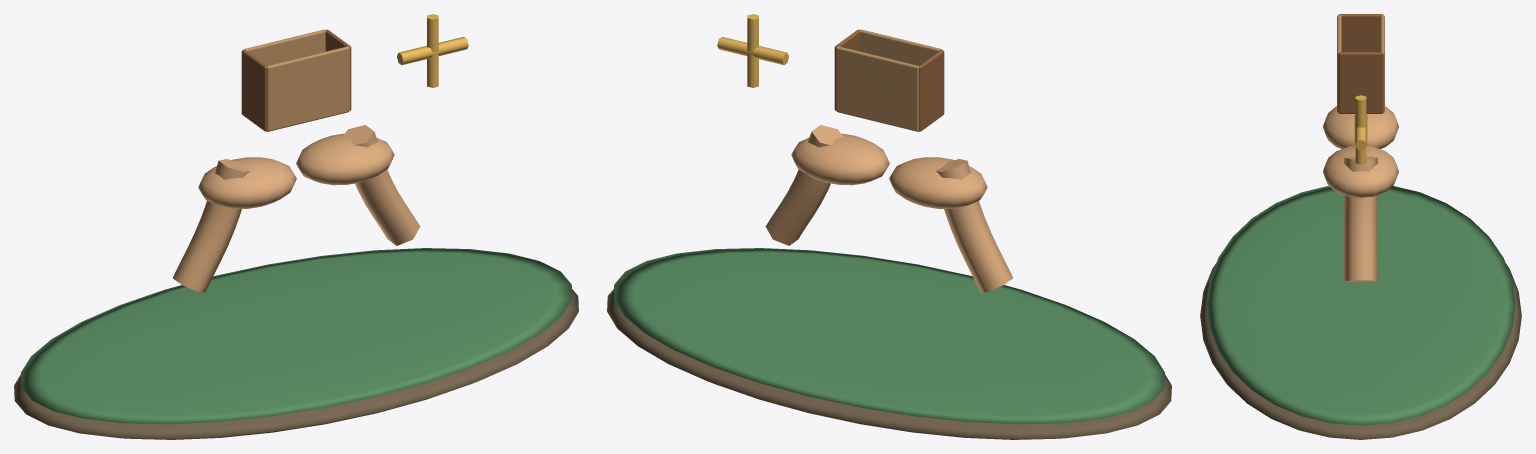
File: complete-second-give-with.glb
3 renders of one model, left to right at view 1: azimuth 30°, elevation 25°; view 2: azimuth 150°, elevation 25°; view 3: azimuth 270°, elevation 25°, orthographic. The views are drawn at different scales.
Visible parts, largest first — view 1: complete-second-give-with_surface_01, complete-second-give-with_surface_02, complete-second-give-with_surface_00, complete-second-give-with_surface_03, complete-second-give-with_surface_04, complete-second-give-with_surface_05; view 2: complete-second-give-with_surface_01, complete-second-give-with_surface_02, complete-second-give-with_surface_00, complete-second-give-with_surface_03, complete-second-give-with_surface_04, complete-second-give-with_surface_05; view 3: complete-second-give-with_surface_01, complete-second-give-with_surface_02, complete-second-give-with_surface_00, complete-second-give-with_surface_04, complete-second-give-with_surface_05, complete-second-give-with_surface_03.
Boxes of the visible parts, x1,y1,x2,y2 form: complete-second-give-with_surface_01: [21, 248, 572, 424]; complete-second-give-with_surface_02: [173, 125, 420, 292]; complete-second-give-with_surface_00: [14, 289, 578, 439]; complete-second-give-with_surface_03: [243, 29, 349, 131]; complete-second-give-with_surface_04: [241, 29, 351, 131]; complete-second-give-with_surface_05: [397, 14, 468, 87]; complete-second-give-with_surface_01: [613, 248, 1164, 424]; complete-second-give-with_surface_02: [765, 125, 1012, 292]; complete-second-give-with_surface_00: [607, 289, 1171, 439]; complete-second-give-with_surface_03: [836, 29, 942, 131]; complete-second-give-with_surface_04: [834, 29, 944, 131]; complete-second-give-with_surface_05: [717, 14, 788, 87]; complete-second-give-with_surface_01: [1206, 186, 1515, 425]; complete-second-give-with_surface_02: [1323, 106, 1398, 282]; complete-second-give-with_surface_00: [1200, 264, 1521, 439]; complete-second-give-with_surface_04: [1338, 14, 1383, 113]; complete-second-give-with_surface_05: [1354, 95, 1367, 164]; complete-second-give-with_surface_03: [1337, 15, 1384, 112].
Size of the model in its own units: 4.56 by 2.55 by 2.5.
